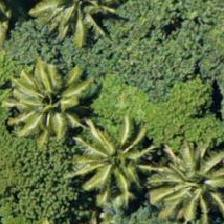coconut_tree: (1, 54, 91, 144), (67, 118, 157, 208), (149, 143, 223, 223)
